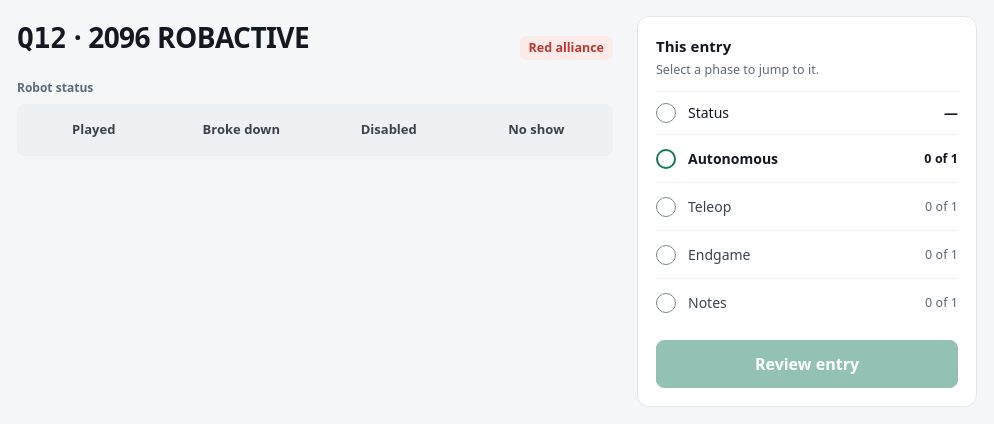
Test: EntryPage › shows phases as tabs and marks a phase done once a field in it is set
The width and height of the screenshot is (994, 424).
Expected: the element "Robot status Played Broke down Disabled No show" is shown, [17,80,613,156]
Click the radio button labelled "Played".
click(94, 130)  # box [20,107,168,153]
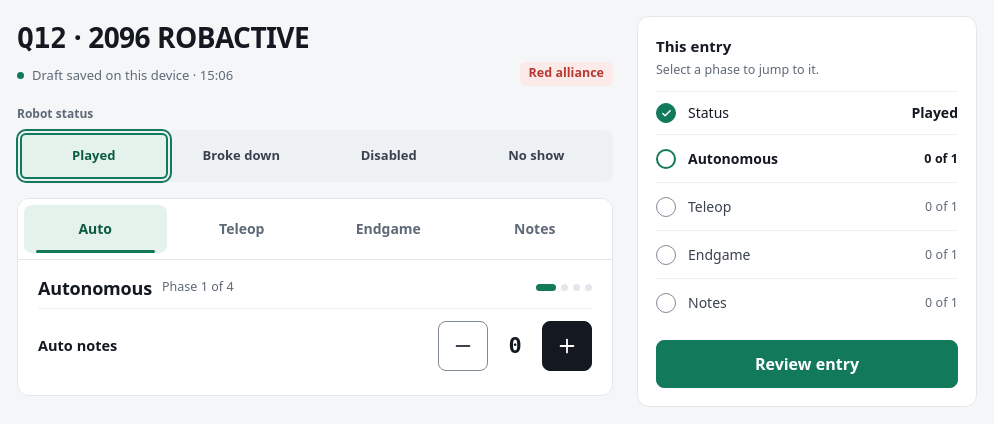
Click the button named "plus one".
click(567, 346)  # box [542,320,592,370]
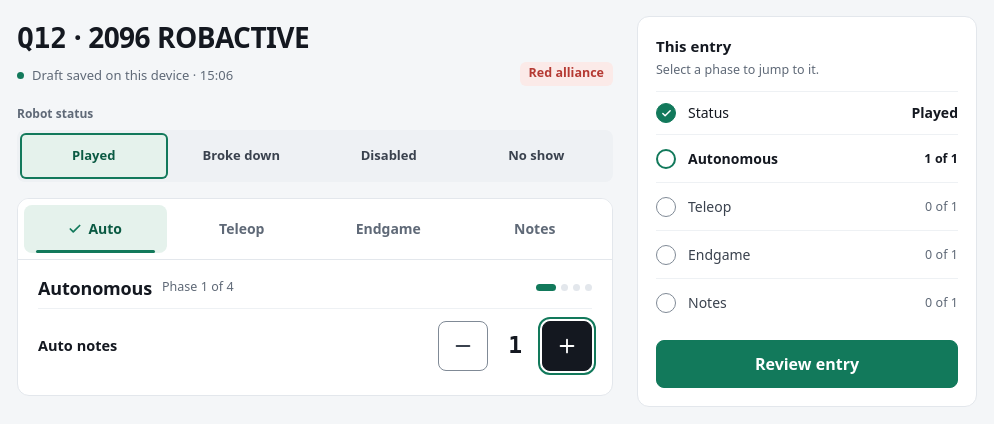
Now the 2nd icon is shown, box [68,222,82,236]
Now the text "1 of 1" is shown, box [924,150,958,168]
